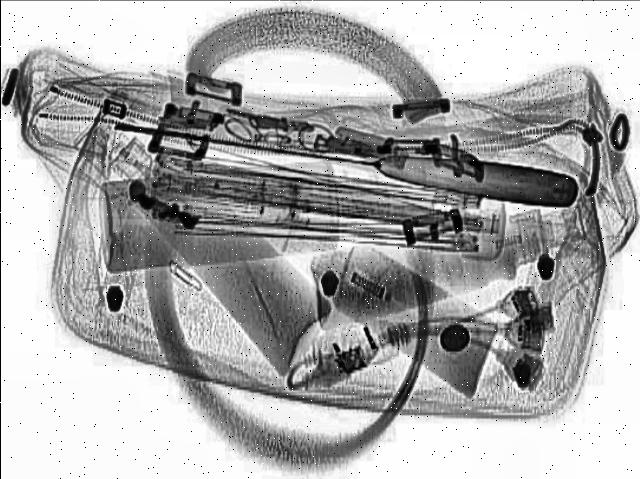Knife: (113, 109, 583, 211)
